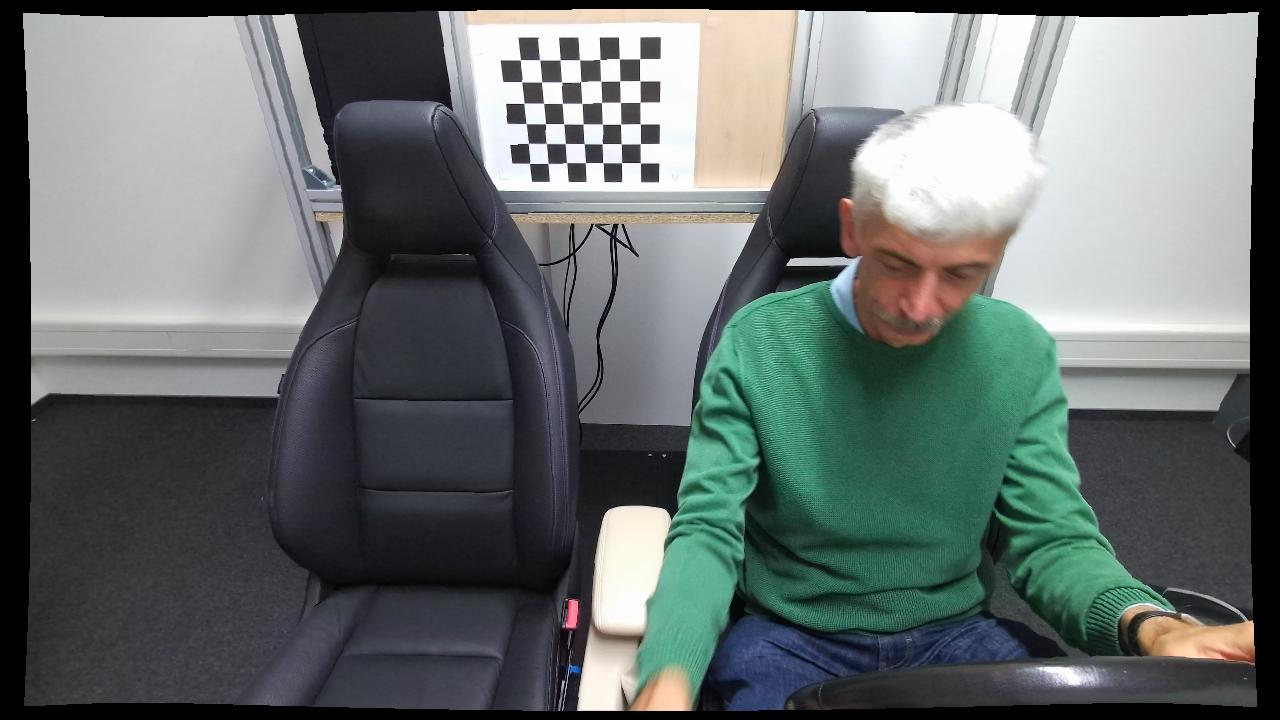Distracted: (629, 106, 1212, 711)
